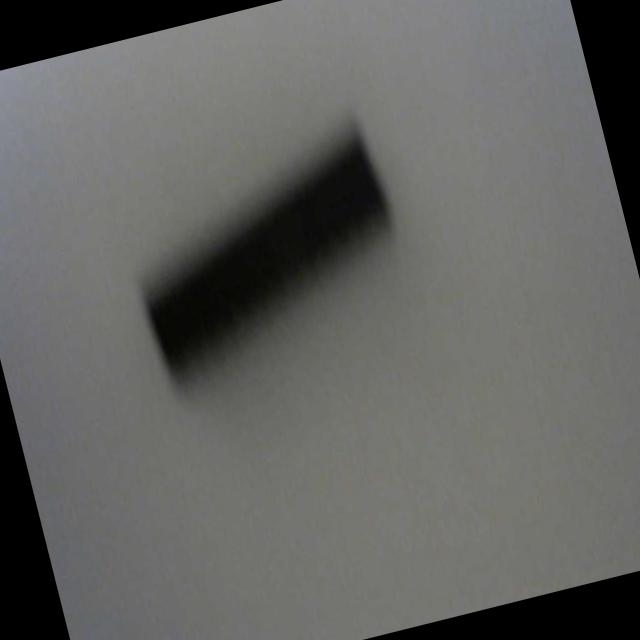atmega: (105, 107, 422, 390)
